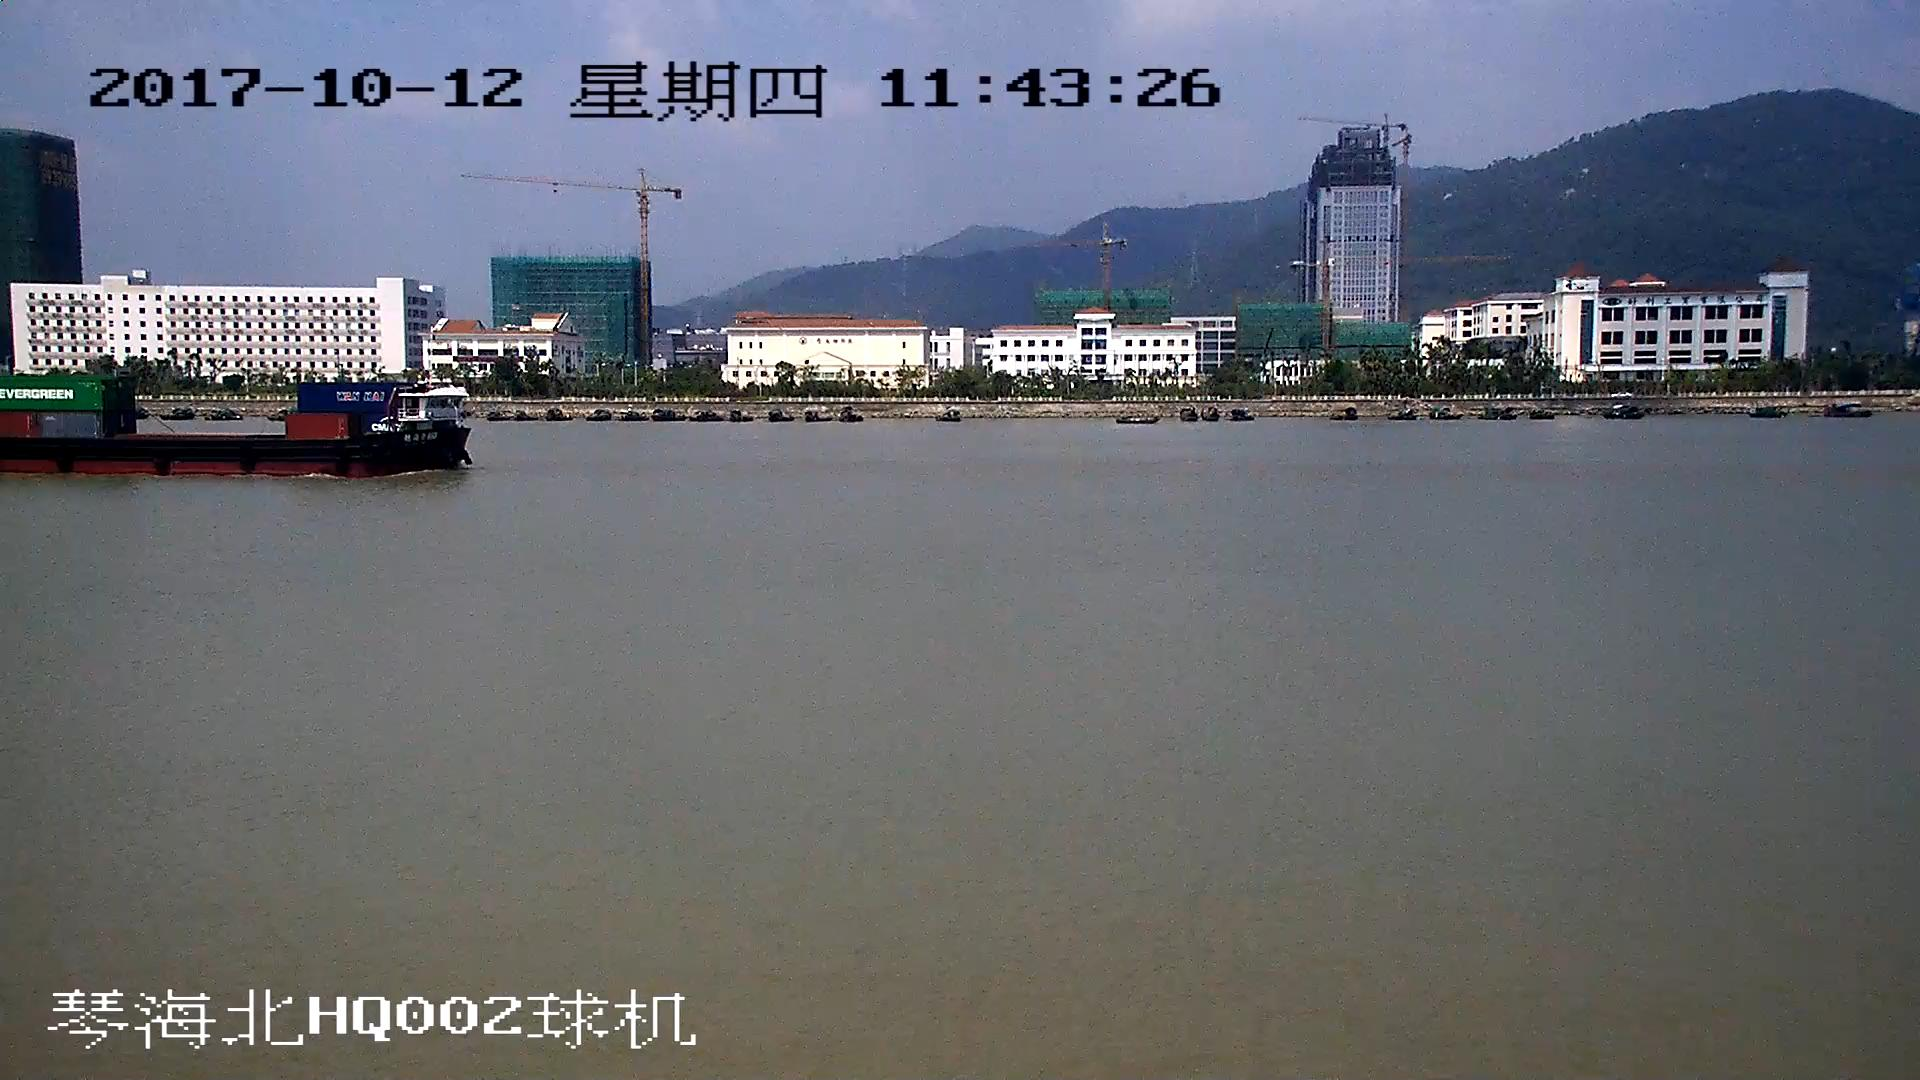container ship: (1, 369, 475, 473)
